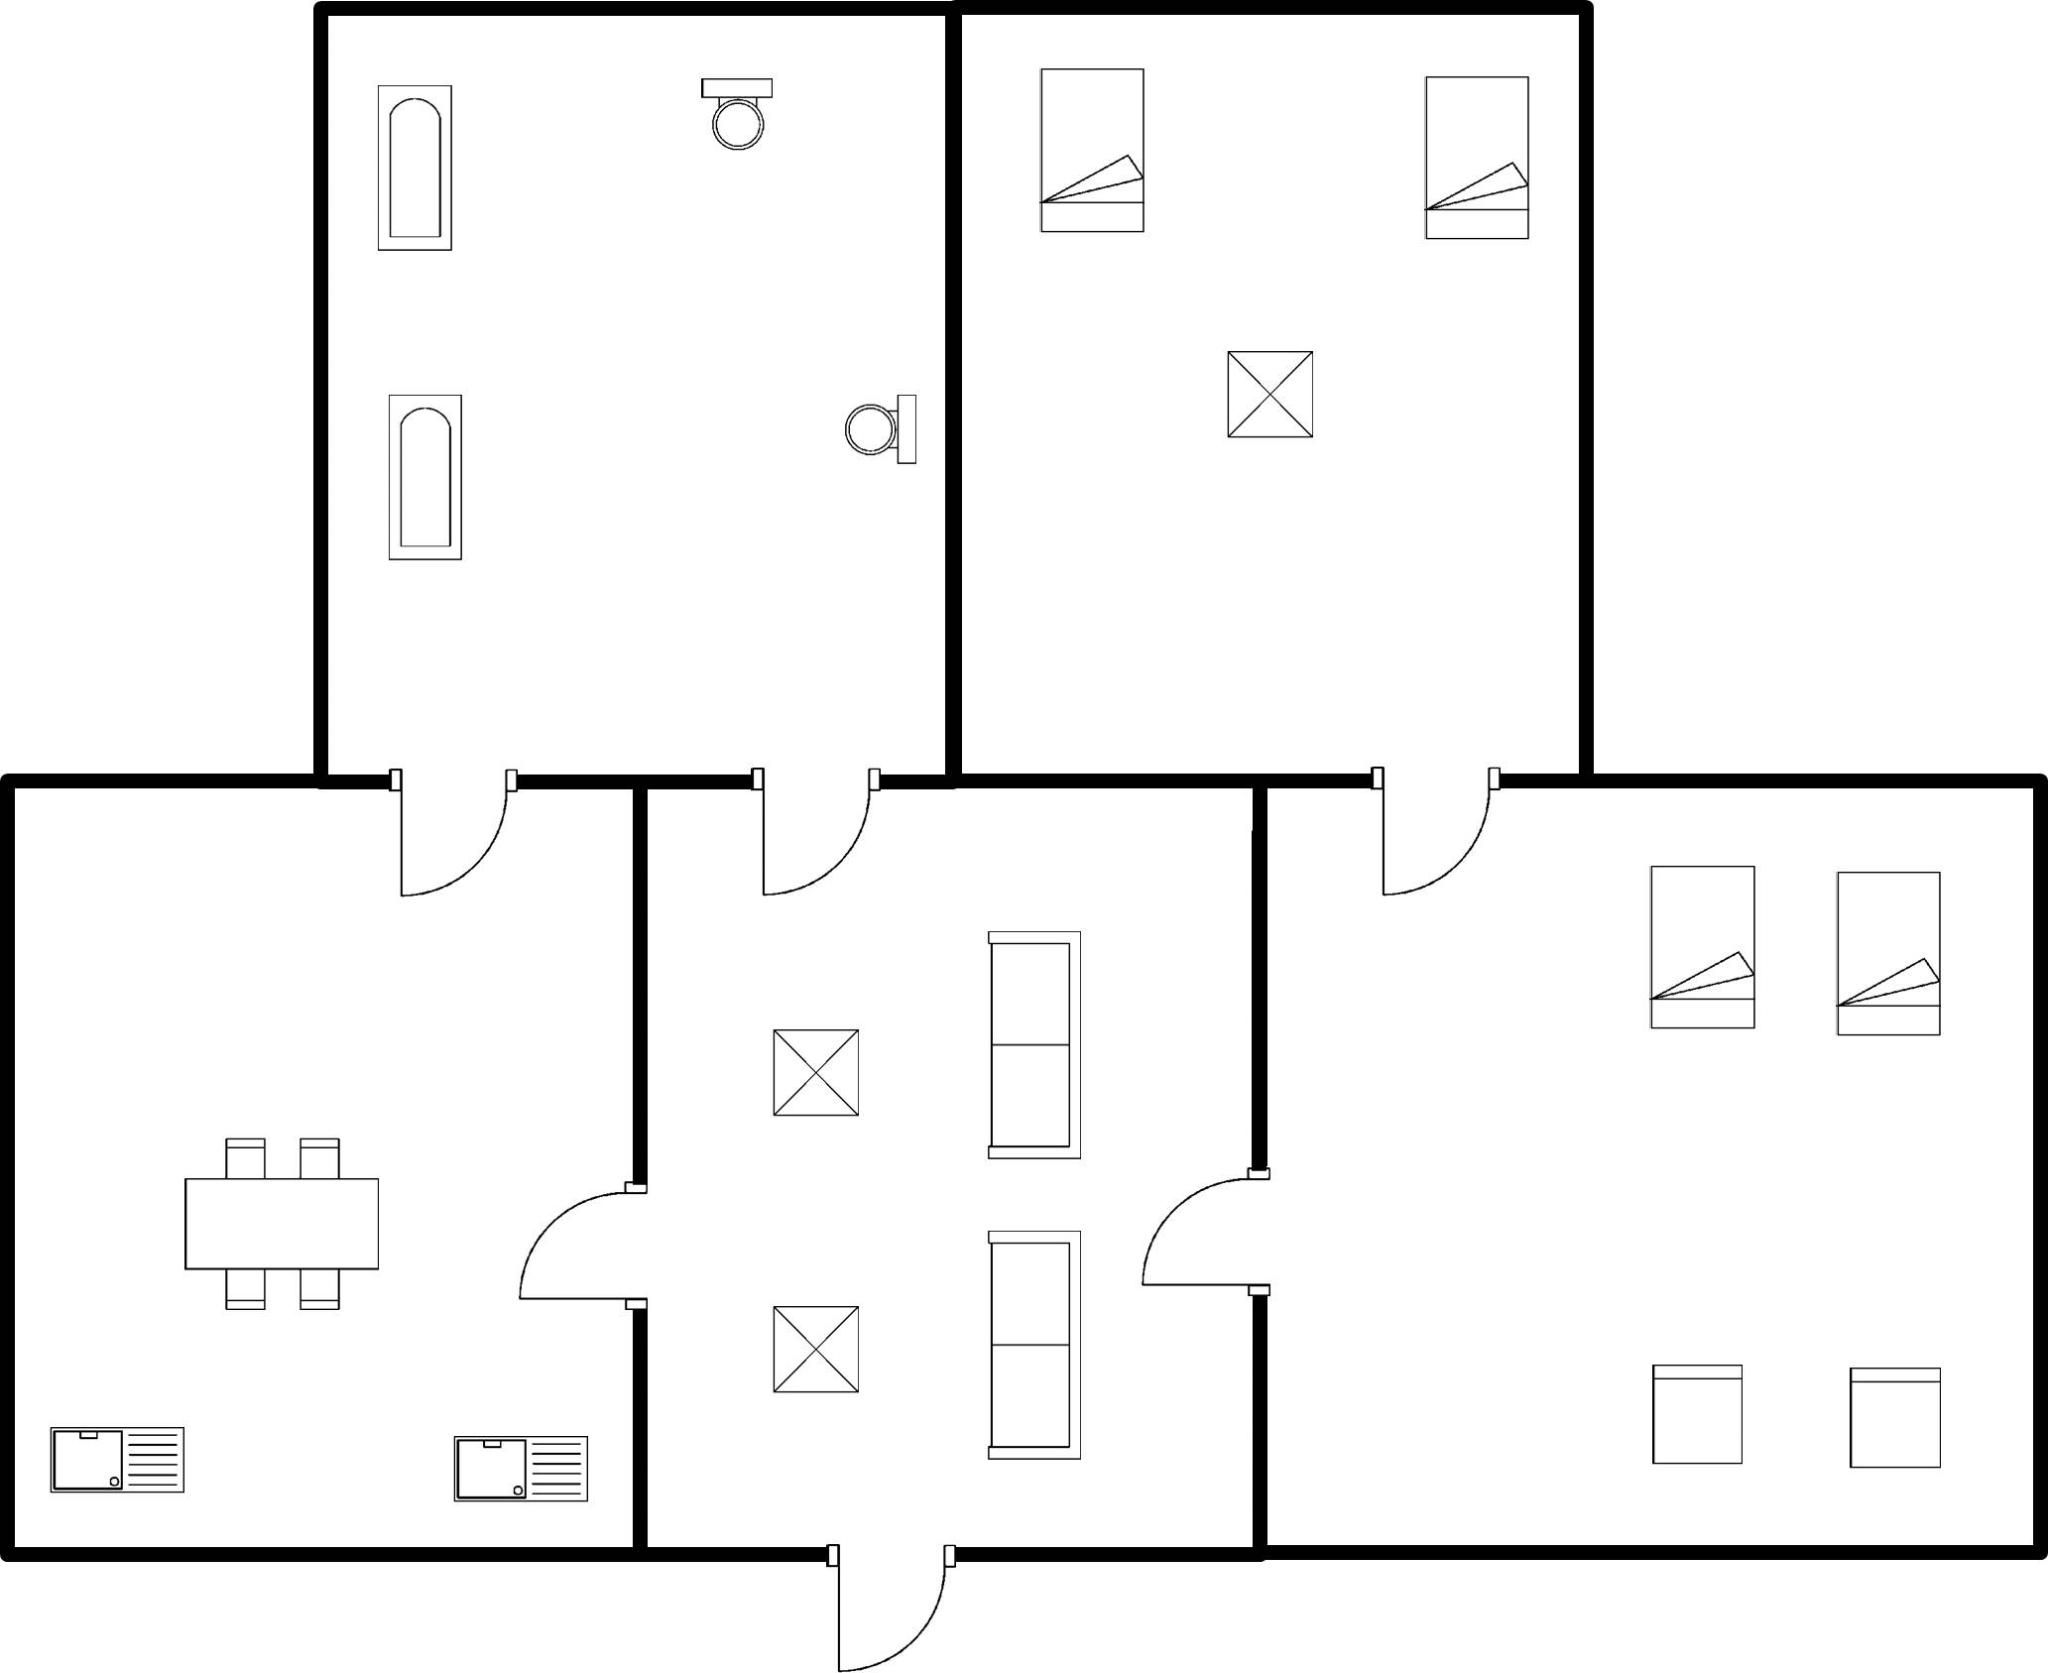bed: (1822, 855, 1956, 1047), (1638, 855, 1767, 1044), (1026, 53, 1155, 240), (1419, 66, 1539, 250)
dining_table: (170, 1126, 393, 1321)
sink: (41, 1416, 194, 1510), (437, 1423, 599, 1510)
sofa: (975, 1222, 1097, 1476), (978, 918, 1094, 1168)
toilet: (692, 66, 784, 163), (830, 383, 925, 471)
tub: (366, 73, 464, 262), (379, 383, 475, 571)
